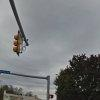Traffic light: (7, 26, 30, 60)
